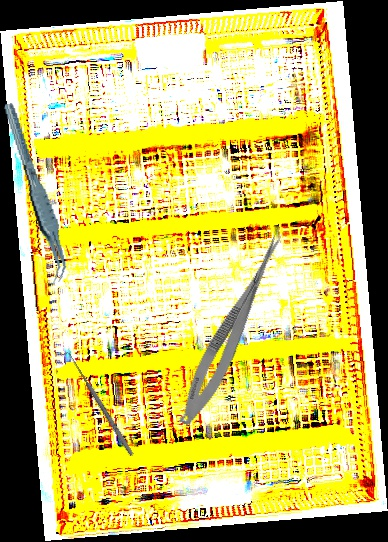Hook Surgical: (60, 348, 136, 460)
Micro Scissor: (172, 223, 291, 431)
Tissue Forceps: (2, 98, 71, 287)
